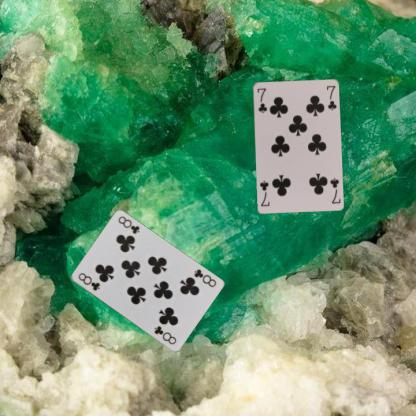7c: (327, 175, 342, 205), (255, 85, 268, 114)
8c: (75, 270, 101, 292), (191, 266, 217, 288)
